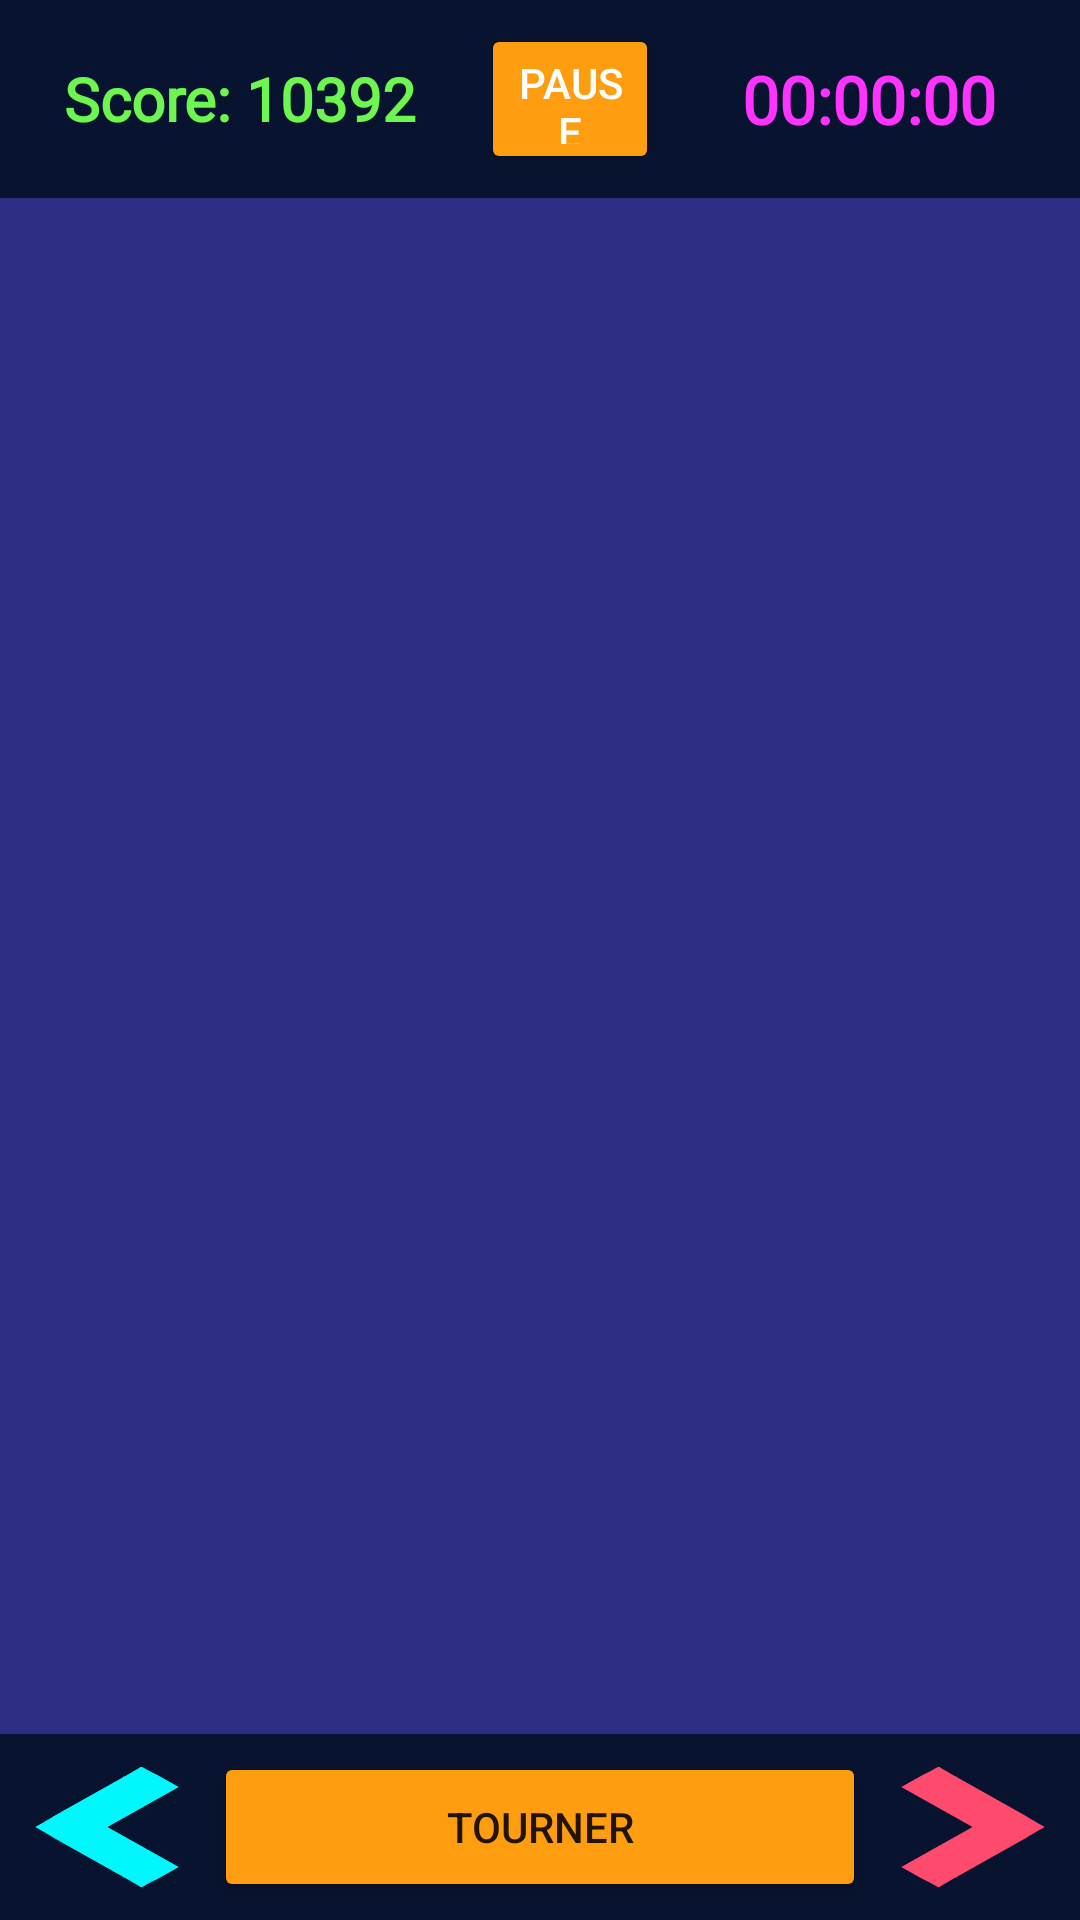

Named icons in this screenshot (1080px×1920px) and their bounding boxes, (x1, y1, x2, y2):
arrow left: (35, 1767, 179, 1887)
arrow right: (901, 1767, 1045, 1887)
